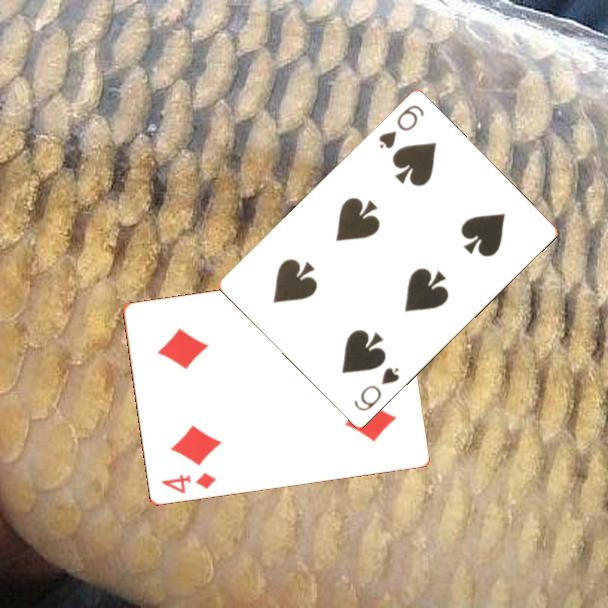d04: (158, 470, 219, 497)
s06: (375, 101, 427, 152), (351, 364, 402, 415)
